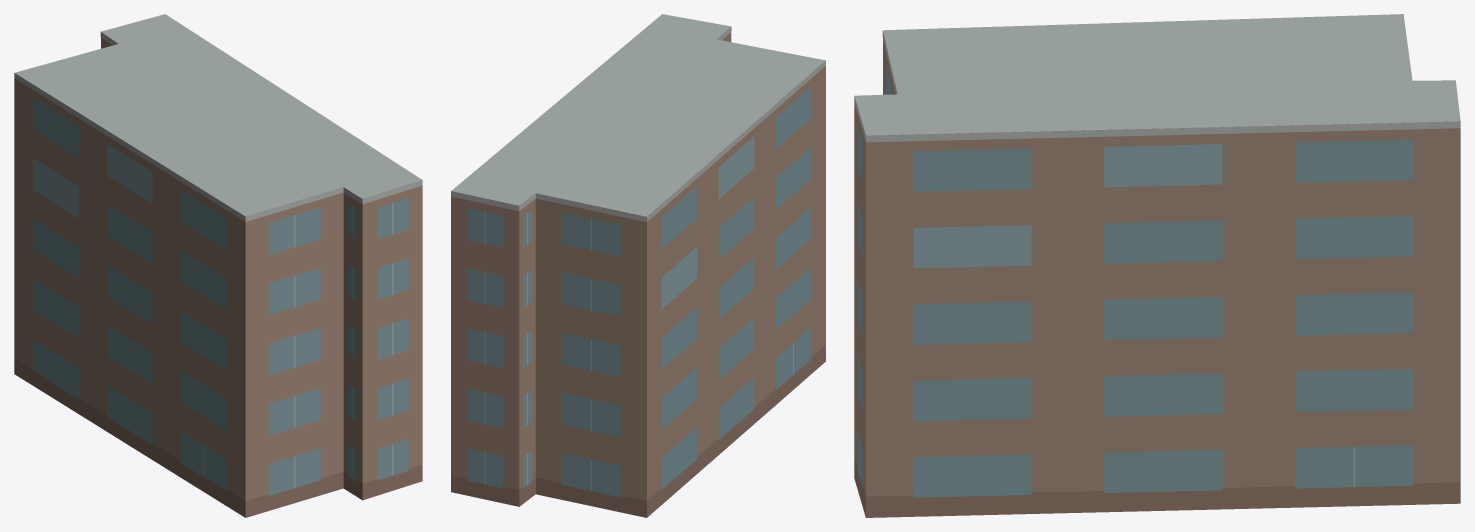
Rendered from survey-upis-32703185.glb.
The picture shows the model from 3 angles, left to right: view 1: azimuth 30°, elevation 25°; view 2: azimuth 150°, elevation 25°; view 3: azimuth 270°, elevation 25°; orthographic projection. The views are drawn at different scales.
Parts seen in each view (by area): view 1: survey-upis-32703185.tmp; view 2: survey-upis-32703185.tmp; view 3: survey-upis-32703185.tmp.
Boxes of the visible parts, bbox=[...] form: survey-upis-32703185.tmp: bbox=[14, 14, 422, 517]; survey-upis-32703185.tmp: bbox=[451, 14, 825, 517]; survey-upis-32703185.tmp: bbox=[854, 14, 1460, 517].
Bounding box in the file's own units: 9.29 × 13.6 × 19.56.
